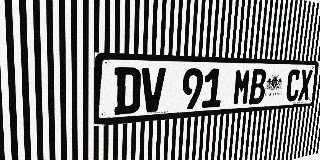1: (202, 68, 223, 108)
9: (181, 68, 204, 110)
B: (249, 69, 267, 104)
C: (285, 69, 301, 102)
D: (114, 67, 141, 115)
M: (232, 69, 251, 106)
V: (140, 67, 166, 113)
X: (298, 70, 313, 101)
